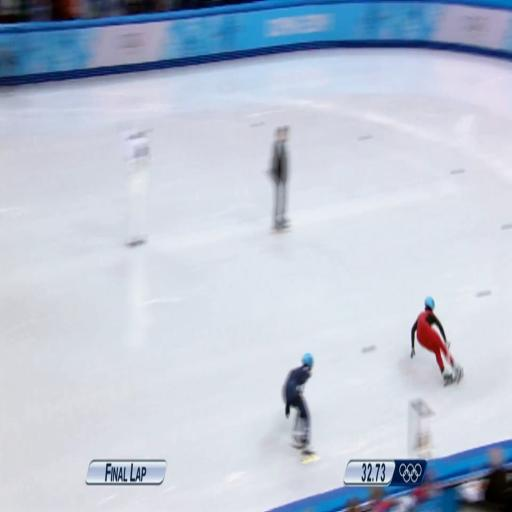Skater: (411, 297, 463, 385), (283, 354, 314, 455)
